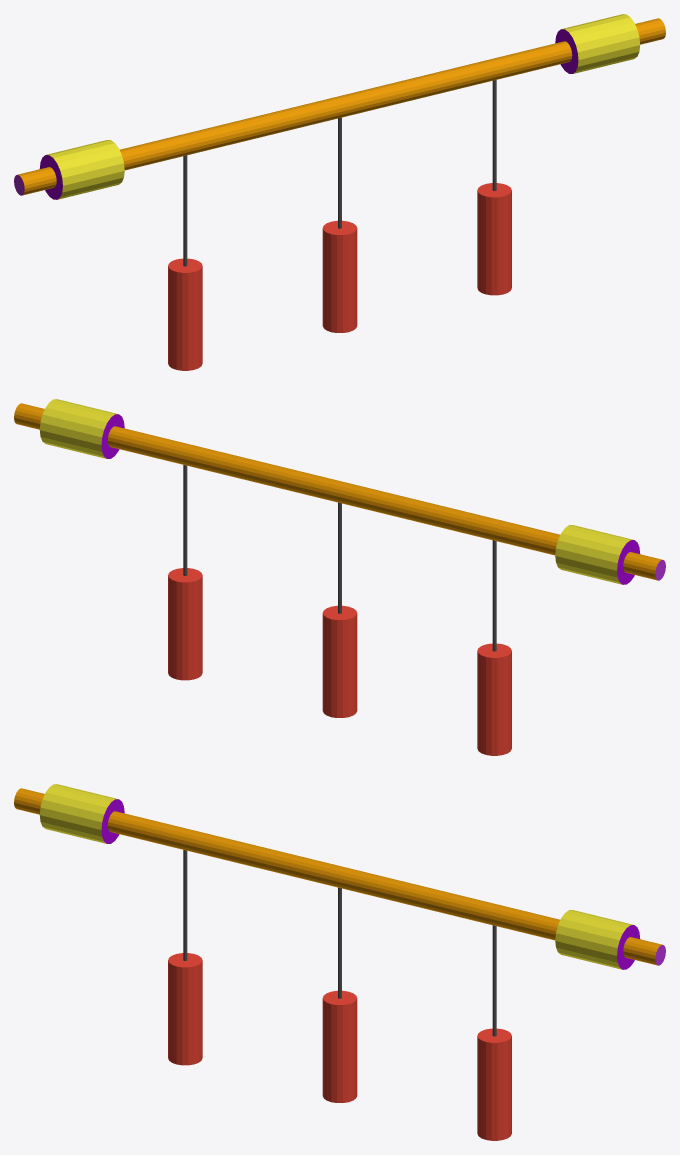
Rendered from obsRole.fbx.
3 views of the same model, one above another, from view 1: azimuth 30°, elevation 25°; view 2: azimuth 150°, elevation 25°; view 3: azimuth 330°, elevation 25° (orthographic).
Visible parts, largest first — view 1: Cylinder, Cylinder.003, Cylinder.007, Cylinder.005, Cylinder.004, Cylinder.001; view 2: Cylinder, Cylinder.003, Cylinder.007, Cylinder.005, Cylinder.004, Cylinder.001; view 3: Cylinder, Cylinder.007, Cylinder.003, Cylinder.005, Cylinder.001, Cylinder.004.
Part boxes in pixels (x1,y1,x2,y2): Cylinder: (14, 18, 665, 195); Cylinder.003: (477, 80, 511, 295); Cylinder.007: (168, 155, 202, 370); Cylinder.005: (322, 117, 357, 332); Cylinder.004: (39, 140, 124, 199); Cylinder.001: (555, 14, 640, 73); Cylinder: (14, 403, 665, 580); Cylinder.003: (168, 465, 202, 680); Cylinder.007: (477, 540, 511, 755); Cylinder.005: (322, 502, 357, 717); Cylinder.004: (555, 525, 640, 584); Cylinder.001: (39, 399, 124, 458); Cylinder: (14, 788, 665, 965); Cylinder.007: (168, 850, 202, 1065); Cylinder.003: (477, 925, 511, 1140); Cylinder.005: (322, 887, 357, 1102); Cylinder.001: (555, 910, 640, 969); Cylinder.004: (39, 784, 124, 843).
Size of the model in its own units: 4976 by 1777 by 312.
